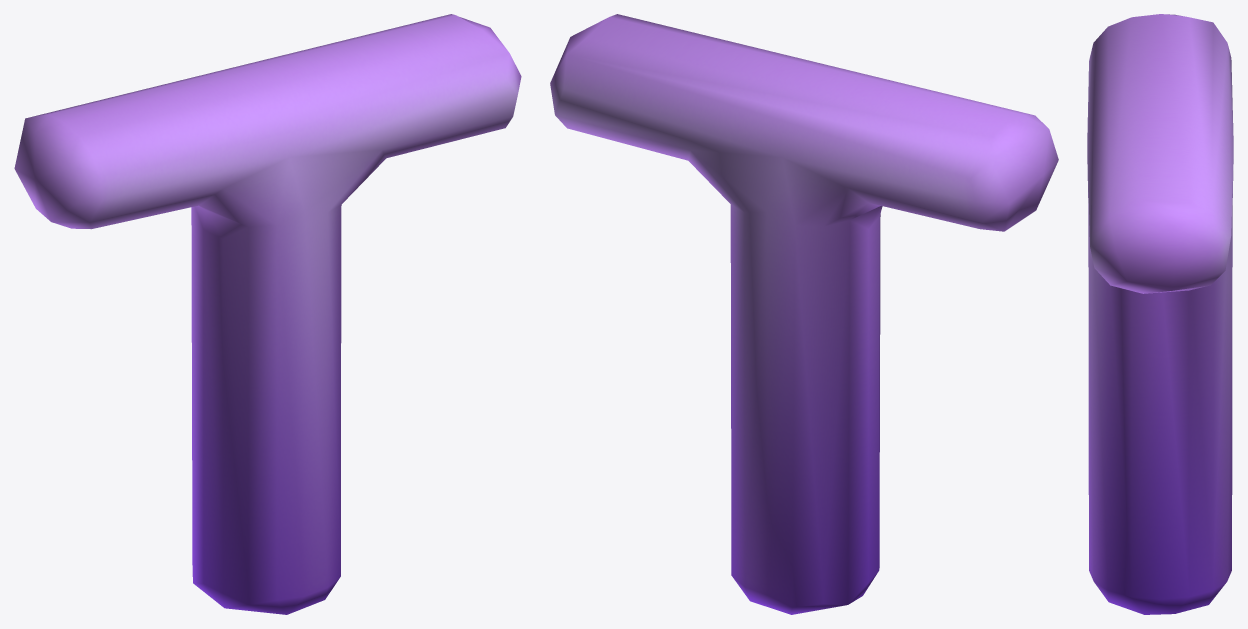
The picture shows the model from 3 angles, left to right: view 1: azimuth 30°, elevation 25°; view 2: azimuth 150°, elevation 25°; view 3: azimuth 270°, elevation 25°; orthographic projection. The views are drawn at different scales.
Visible parts, largest first — view 1: Processed_Mesh0_Geometry; view 2: Processed_Mesh0_Geometry; view 3: Processed_Mesh0_Geometry.
Boxes of the visible parts, x1,y1,x2,y2 form: Processed_Mesh0_Geometry: (14, 14, 521, 614); Processed_Mesh0_Geometry: (550, 14, 1058, 614); Processed_Mesh0_Geometry: (1087, 14, 1233, 614).
Size of what is drawn, in the model's own units: 0.0744 by 0.0797 by 0.0214.
1 material, 1 textured.
